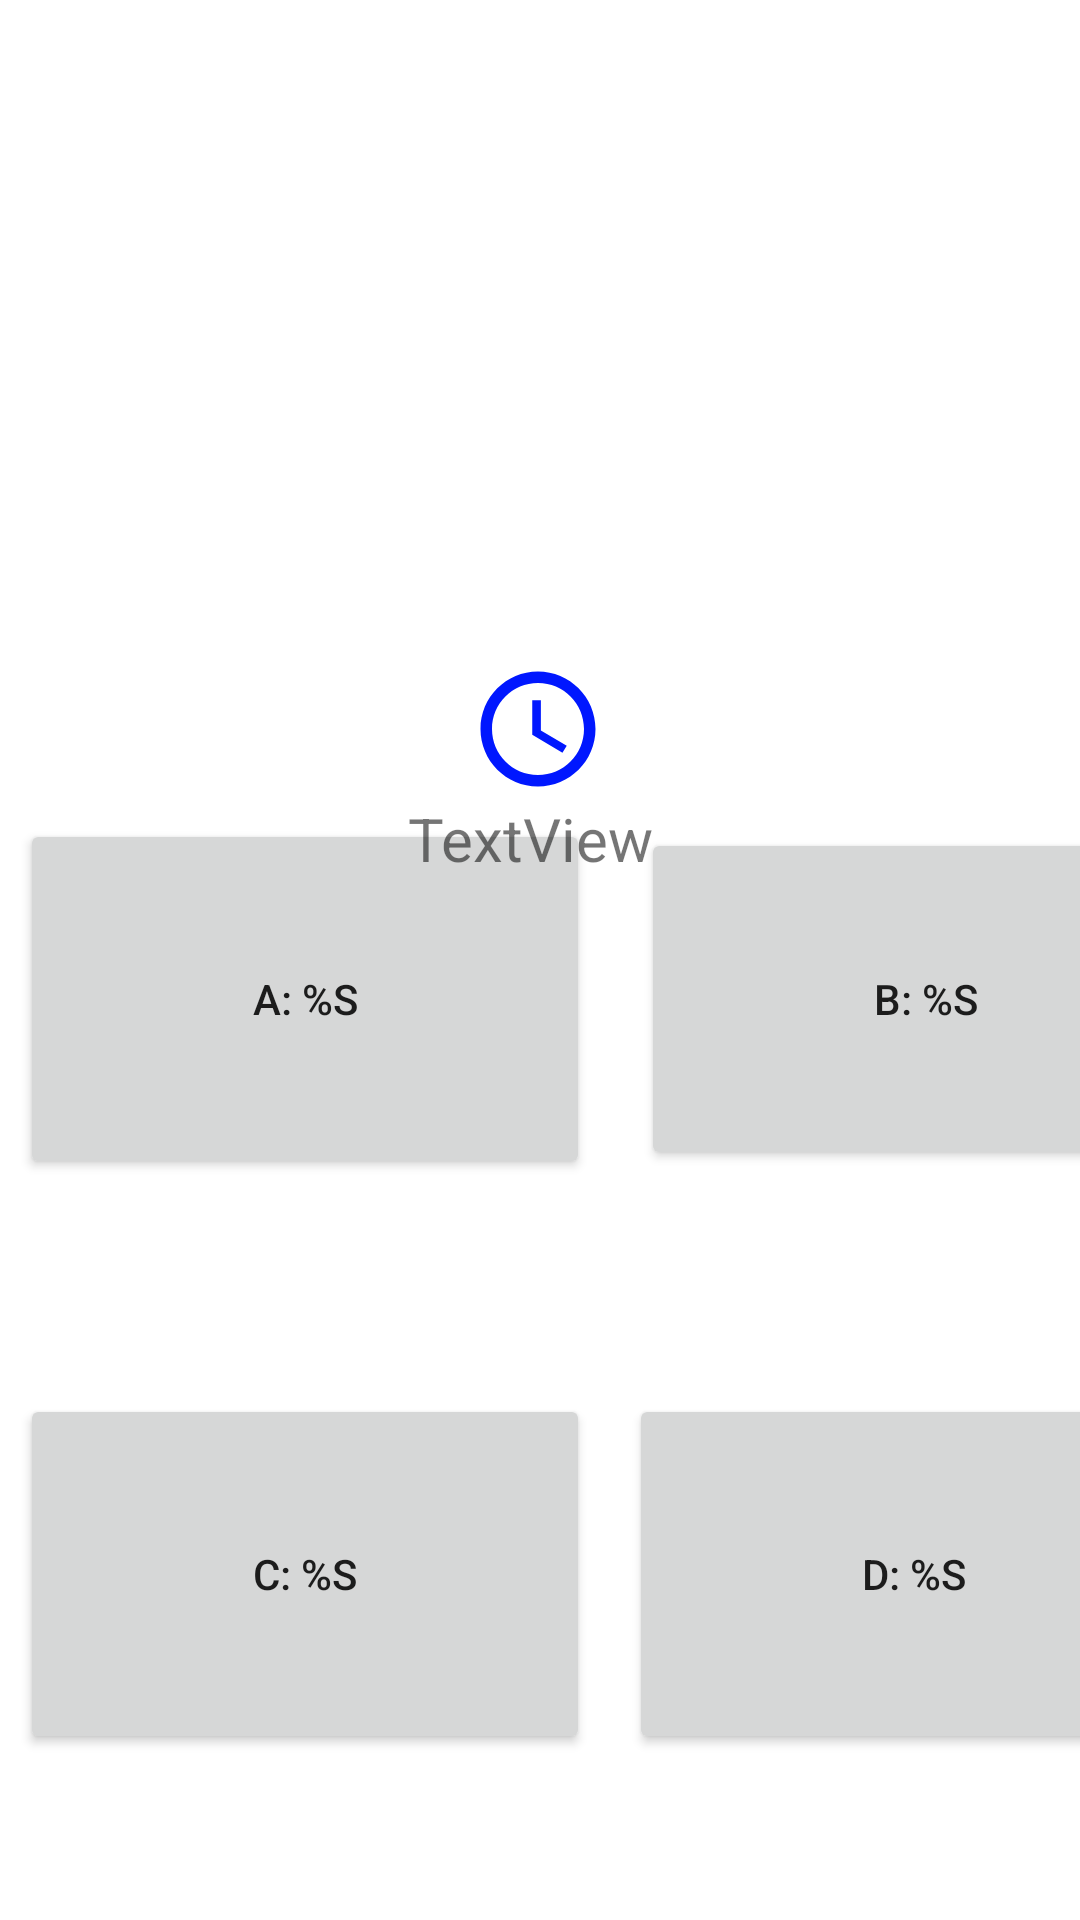

Screen size 1080px×1920px. Icon name, then its center in pixels as [x,y]:
query builder: [538,729]
